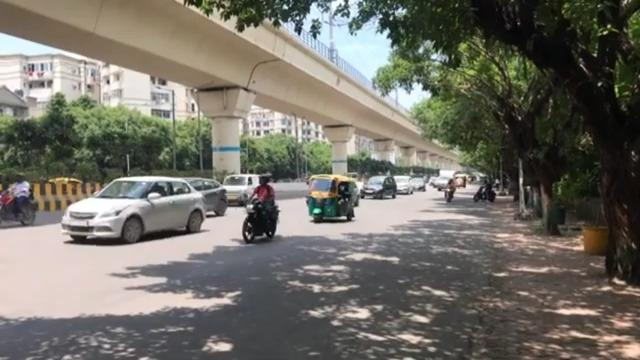Auto: (305, 173, 359, 222)
Bike: (240, 175, 280, 243), (0, 168, 41, 227), (472, 173, 496, 202), (443, 172, 455, 202)
